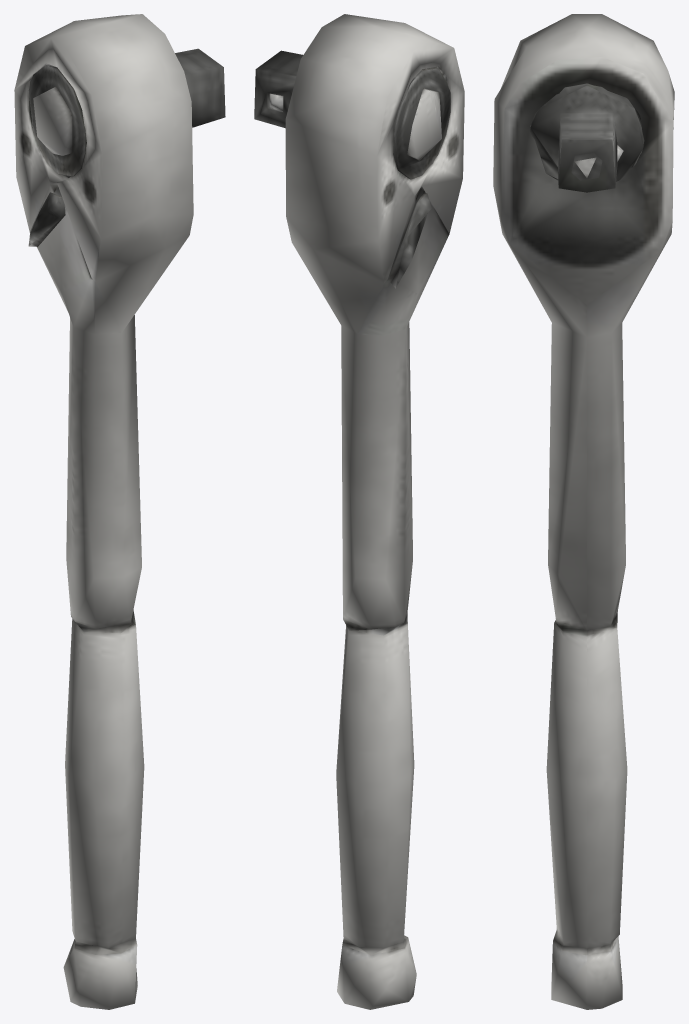
File: ratchet_wrench.glb
3 renders of one model, left to right at view 1: azimuth 30°, elevation 25°; view 2: azimuth 150°, elevation 25°; view 3: azimuth 270°, elevation 25°, orthographic.
Visible parts, largest first — view 1: ratchet_wrench; view 2: ratchet_wrench; view 3: ratchet_wrench.
Boxes of the visible parts, box(x1,y1,x2,y2) form: ratchet_wrench: box(14, 14, 225, 1009); ratchet_wrench: box(254, 14, 464, 1009); ratchet_wrench: box(493, 14, 674, 1009).
Bounding box in the file's own units: 0.0435 × 0.2445 × 0.0417.
Materials: 1 (1 with a texture image).
